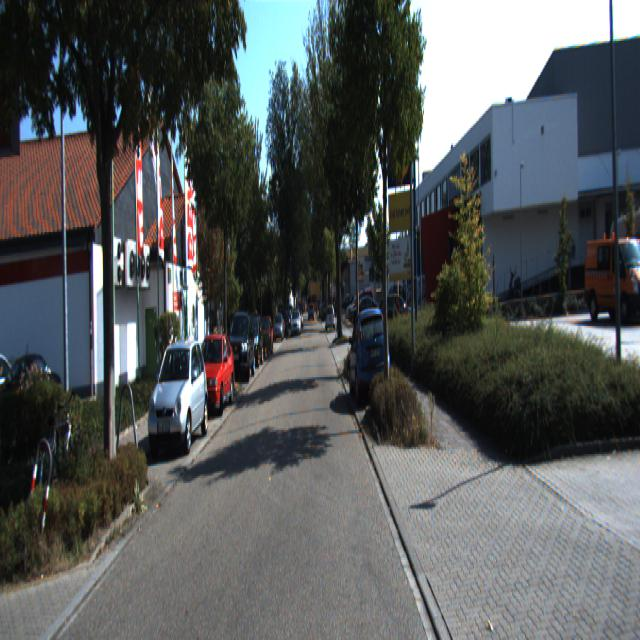Car: (147, 333, 208, 454), (584, 219, 640, 322), (349, 305, 390, 405), (190, 331, 234, 418), (0, 347, 36, 430), (226, 310, 256, 386), (240, 312, 264, 369)
